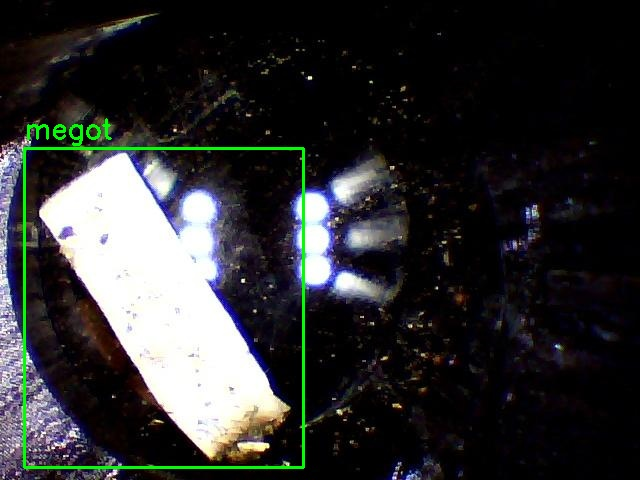megot: (24, 148, 303, 467)
